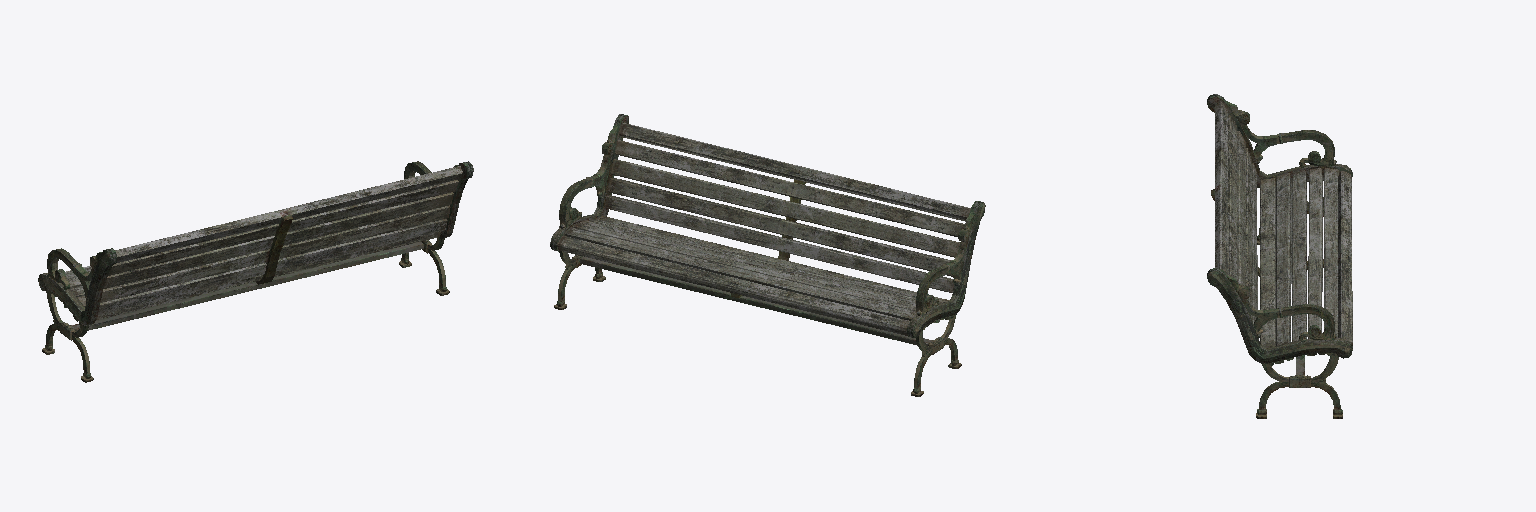
3 renders of one model, left to right at view 1: azimuth 30°, elevation 25°; view 2: azimuth 150°, elevation 25°; view 3: azimuth 270°, elevation 25°, orthographic.
Visible parts, largest first — view 1: ParkBench; view 2: ParkBench; view 3: ParkBench.
Boxes of the visible parts, x1=… form: ParkBench: x1=38, y1=161, x2=473, y2=382; ParkBench: x1=550, y1=114, x2=985, y2=396; ParkBench: x1=1207, y1=94, x2=1352, y2=418.
Size of the model in its own units: 164 by 62.88 by 56.32.
Materials: 1 (1 with a texture image).